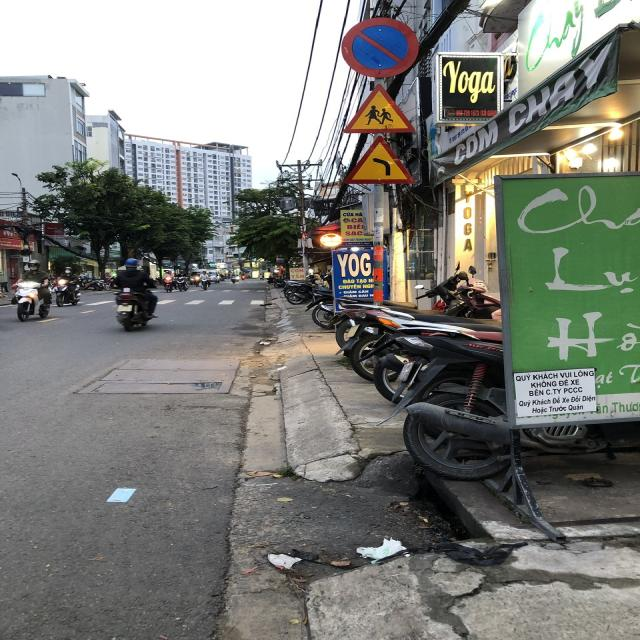Bien bao cam do xe: (337, 13, 428, 80)
Bien bao cho ngoat nguy hiem: (341, 134, 420, 188)
Bien bao tre em: (334, 79, 424, 136)
